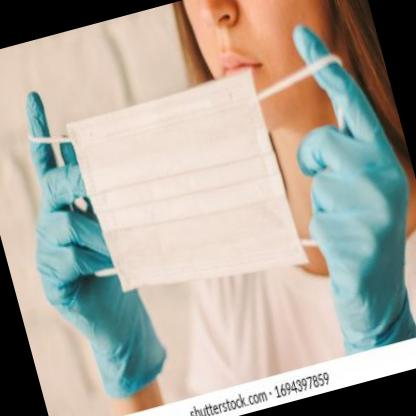Gloves: (0, 73, 174, 410), (256, 5, 416, 357)
